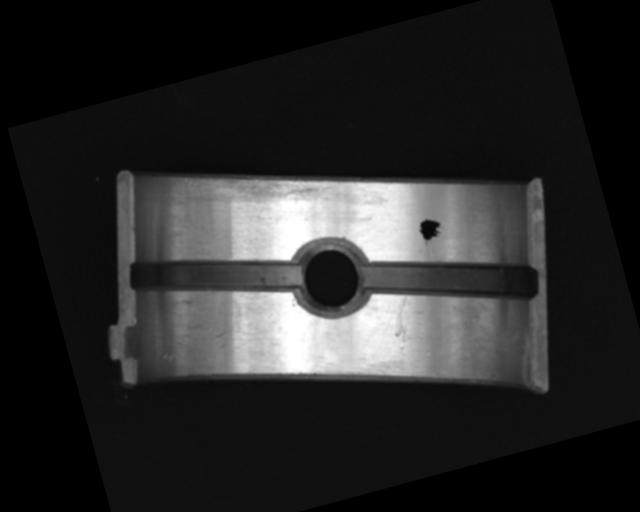blot: (416, 214, 446, 247)
bruise: (212, 328, 233, 341), (159, 349, 175, 363)
gap: (359, 221, 540, 337), (125, 221, 305, 329)
hole: (284, 230, 374, 323)
nick: (383, 295, 420, 351)
scratch: (177, 139, 340, 233)
